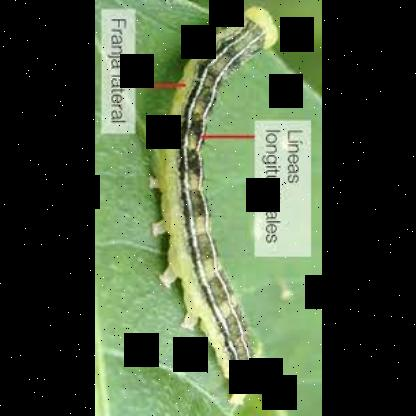oruga: (159, 8, 285, 410)
